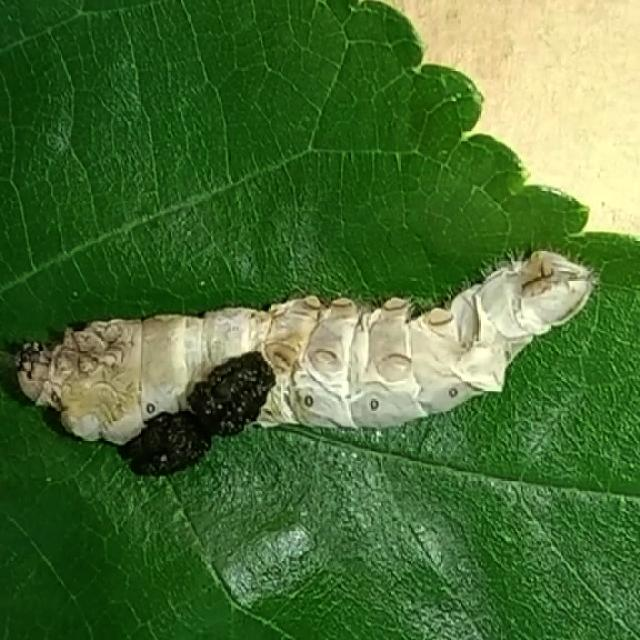Grasserie: (12, 248, 614, 471)
